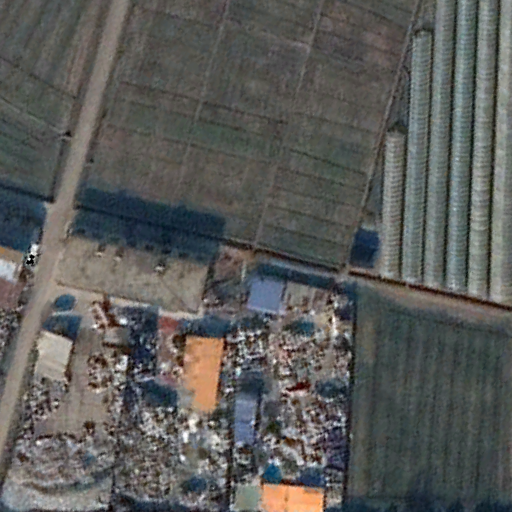msw: (116, 318, 348, 512), (6, 426, 113, 512)
